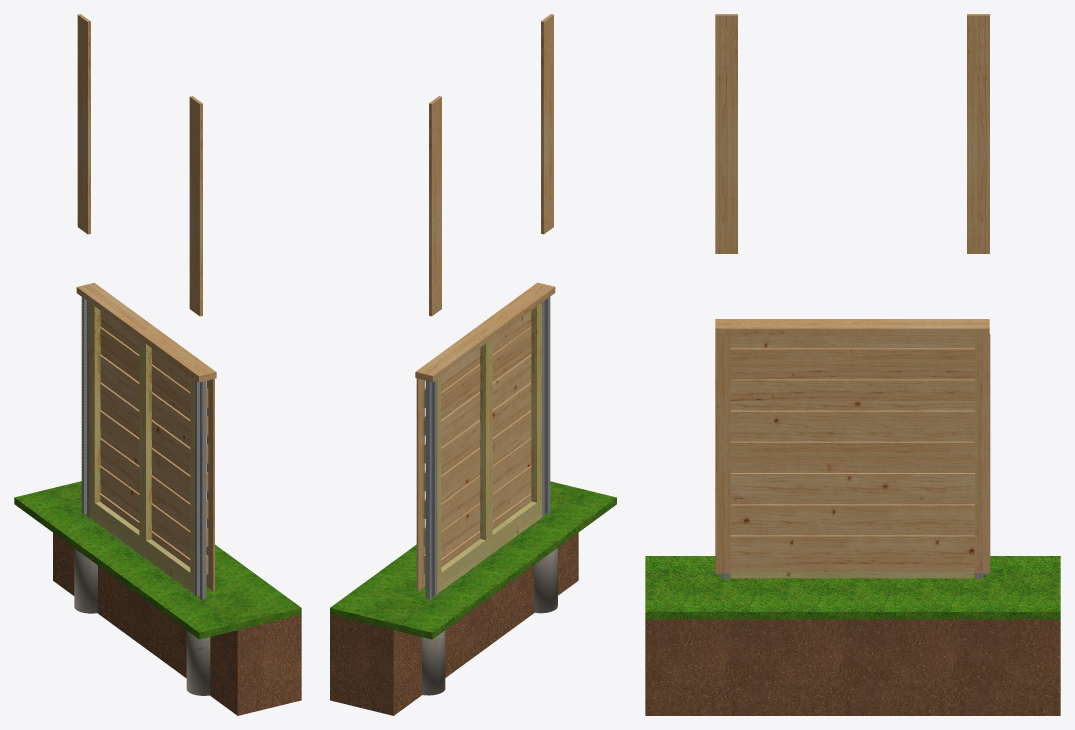
3 views of the same model, side by side, from view 1: azimuth 30°, elevation 25°; view 2: azimuth 150°, elevation 25°; view 3: azimuth 270°, elevation 25° (orthographic). The views are drawn at different scales.
Parts seen in each view (by area): view 1: Model32, Right_Plank, Left_Plank; view 2: Model32, Left_Plank, Right_Plank; view 3: Model32, Right_Plank, Left_Plank.
Part boxes in pixels (x1,y1,x2,y2): Model32: (14,282,301,715); Right_Plank: (77,14,90,234); Left_Plank: (189,96,202,316); Model32: (330,282,616,715); Left_Plank: (541,14,553,234); Right_Plank: (429,96,441,316); Model32: (645,319,1060,715); Right_Plank: (967,14,989,253); Left_Plank: (715,14,737,253).
Bounding box in the file's own units: 0.8836 × 4.88 × 2.77.
6 materials, 5 textured.
